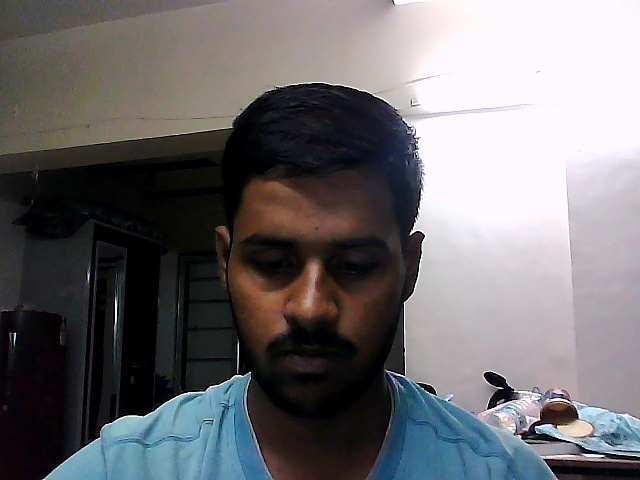drowsy: (183, 71, 468, 430)
